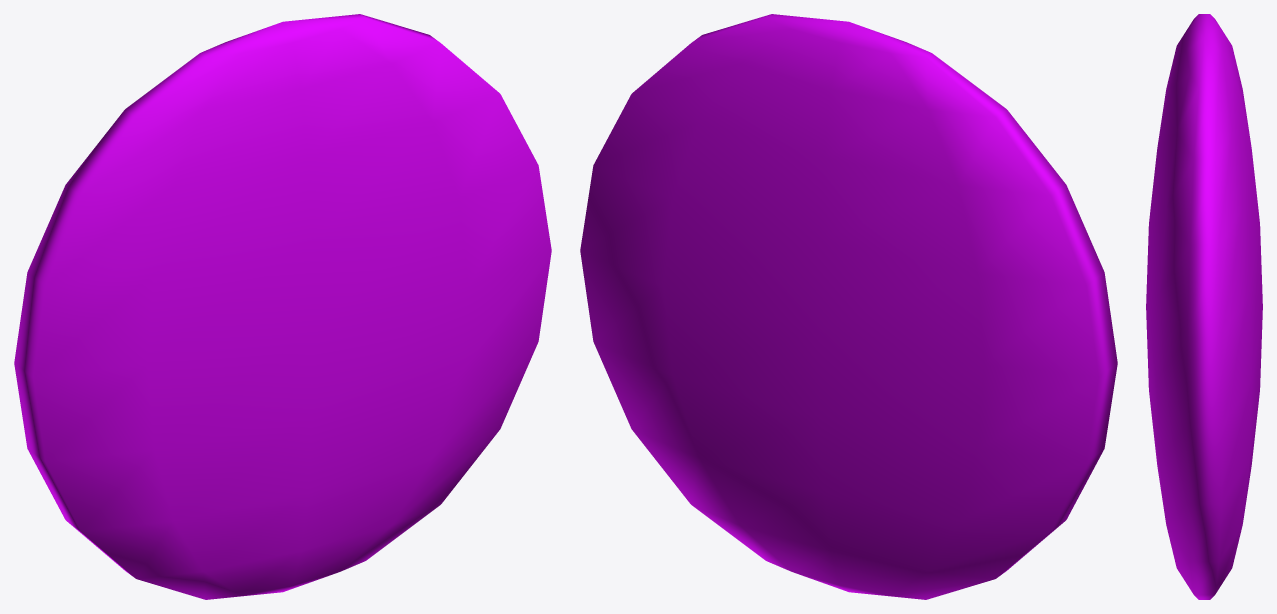
The picture shows the model from 3 angles, left to right: view 1: azimuth 30°, elevation 25°; view 2: azimuth 150°, elevation 25°; view 3: azimuth 270°, elevation 25°; orthographic projection. The views are drawn at different scales.
Parts seen in each view (by area): view 1: Sphere; view 2: Sphere; view 3: Sphere.
Part boxes in pixels (x1=…): Sphere: x1=14, y1=14, x2=551, y2=599; Sphere: x1=580, y1=14, x2=1117, y2=599; Sphere: x1=1146, y1=14, x2=1262, y2=599.
Size of the model in its own units: 0.0951 by 0.1 by 0.0197.
